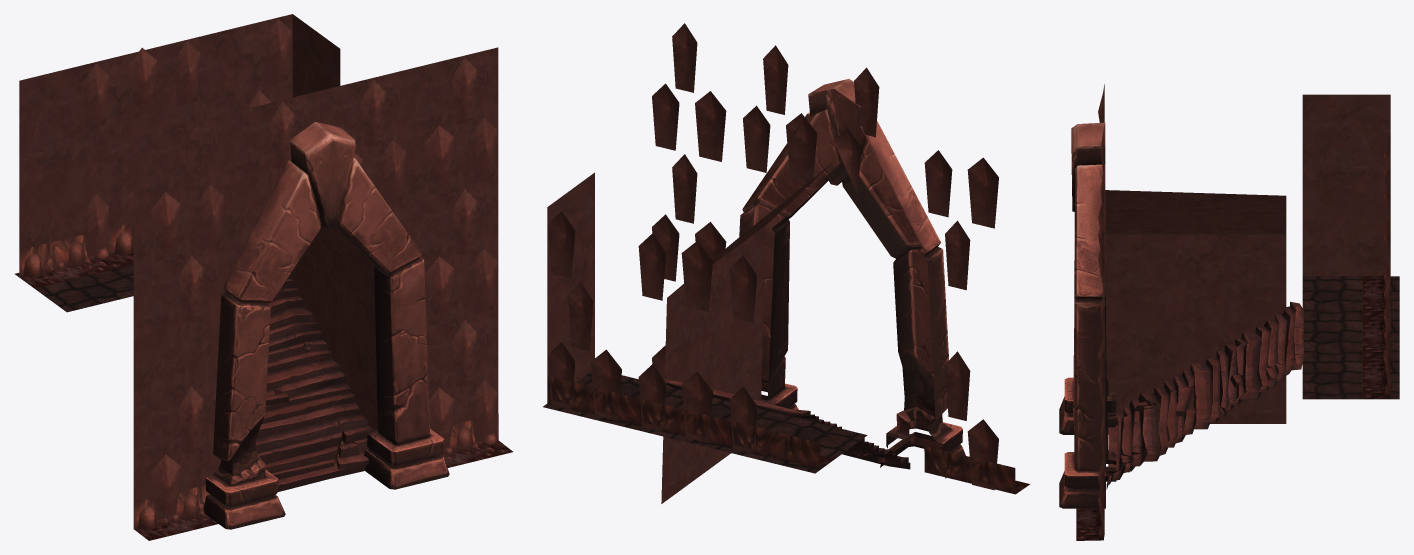
Rendered from lava_entry_stairs_01.fbx.
3 renders of one model, left to right at view 1: azimuth 30°, elevation 25°; view 2: azimuth 150°, elevation 25°; view 3: azimuth 270°, elevation 25°, orthographic. The views are drawn at different scales.
Visible parts, largest first — view 1: lava_entry_stairs_01-0; view 2: lava_entry_stairs_01-0; view 3: lava_entry_stairs_01-0.
Part boxes in pixels (x1,y1,x2,y2): lava_entry_stairs_01-0: (15, 14, 512, 540); lava_entry_stairs_01-0: (543, 23, 1029, 503); lava_entry_stairs_01-0: (1059, 84, 1399, 540).
Size of the model in its own units: 16 by 16.5 by 14.02.
